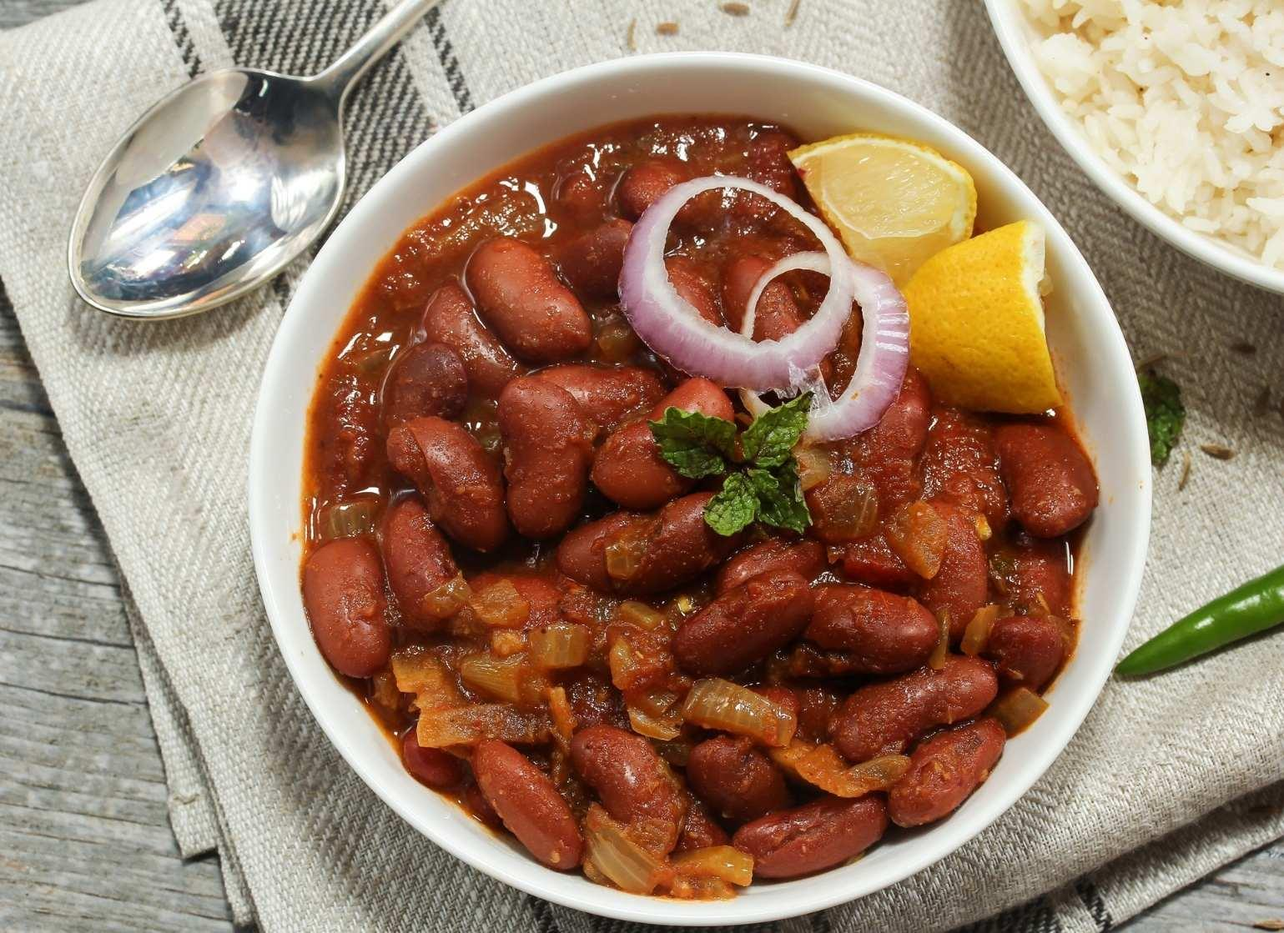rajma: (345, 211, 1012, 933)
